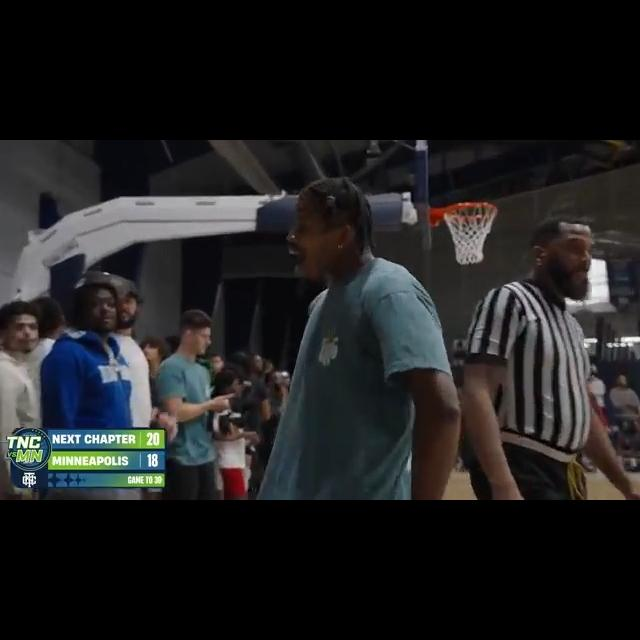hoop: (443, 199, 497, 264)
